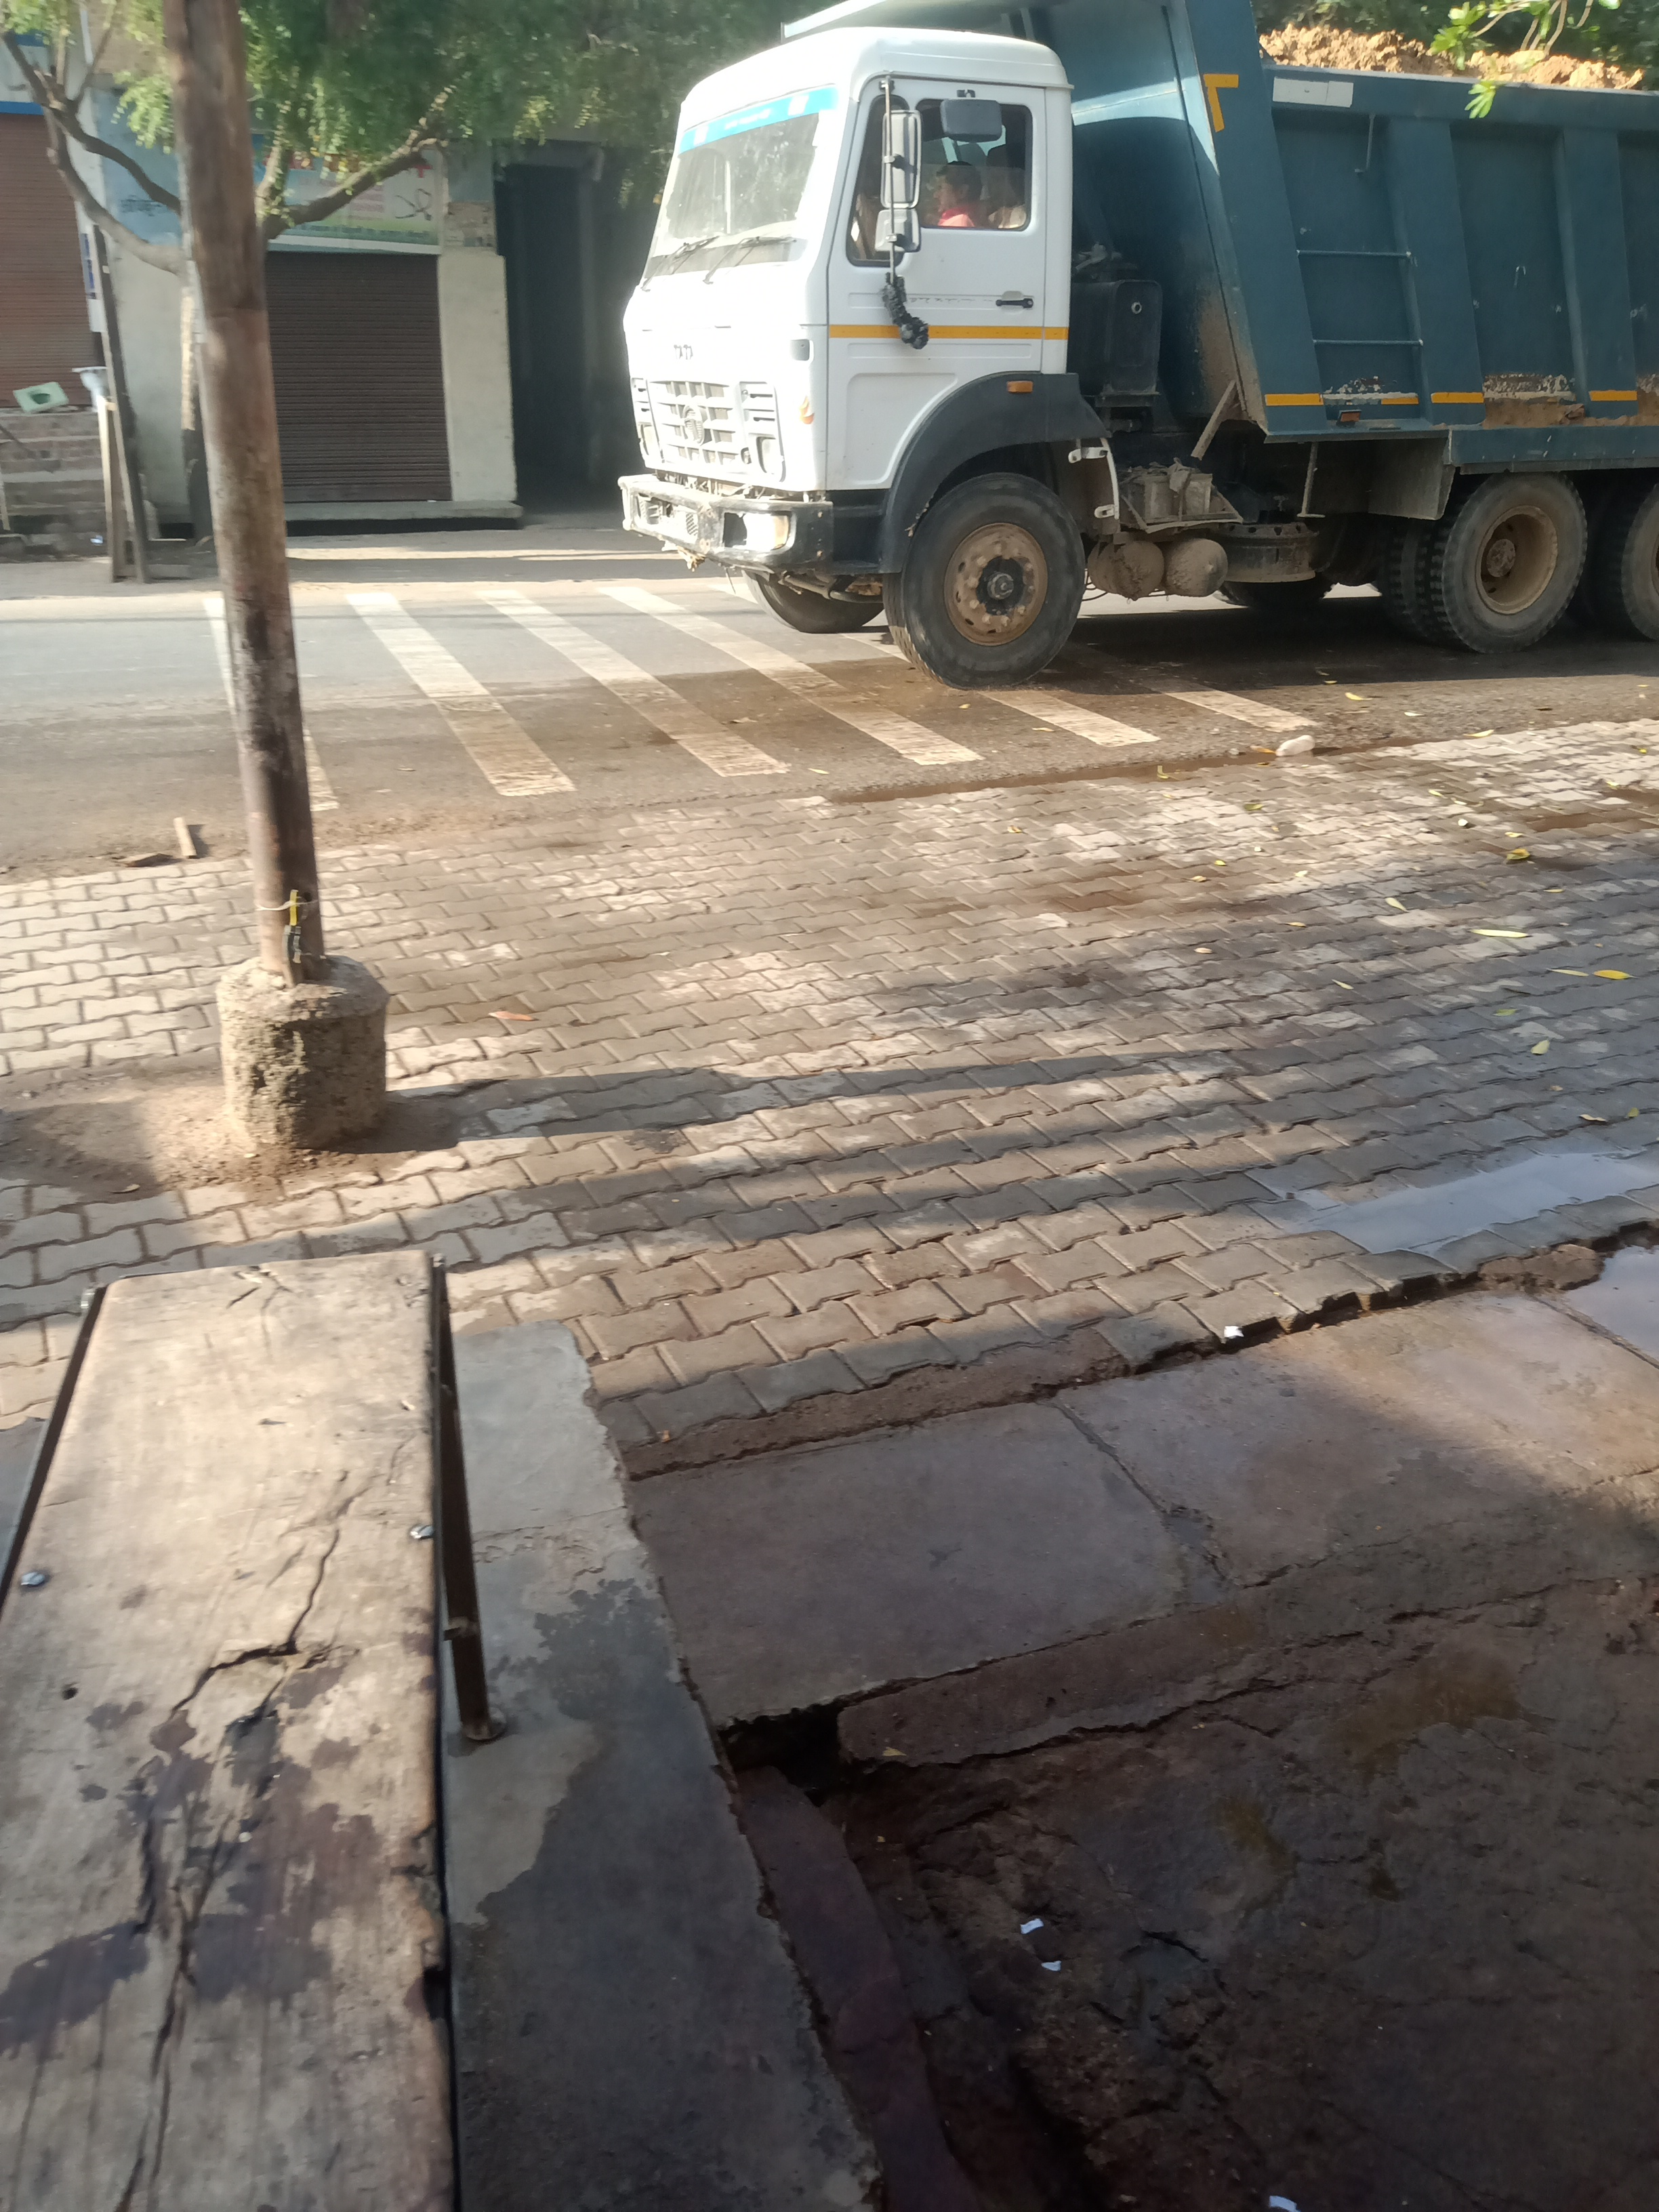truck: (617, 0, 1659, 695)
